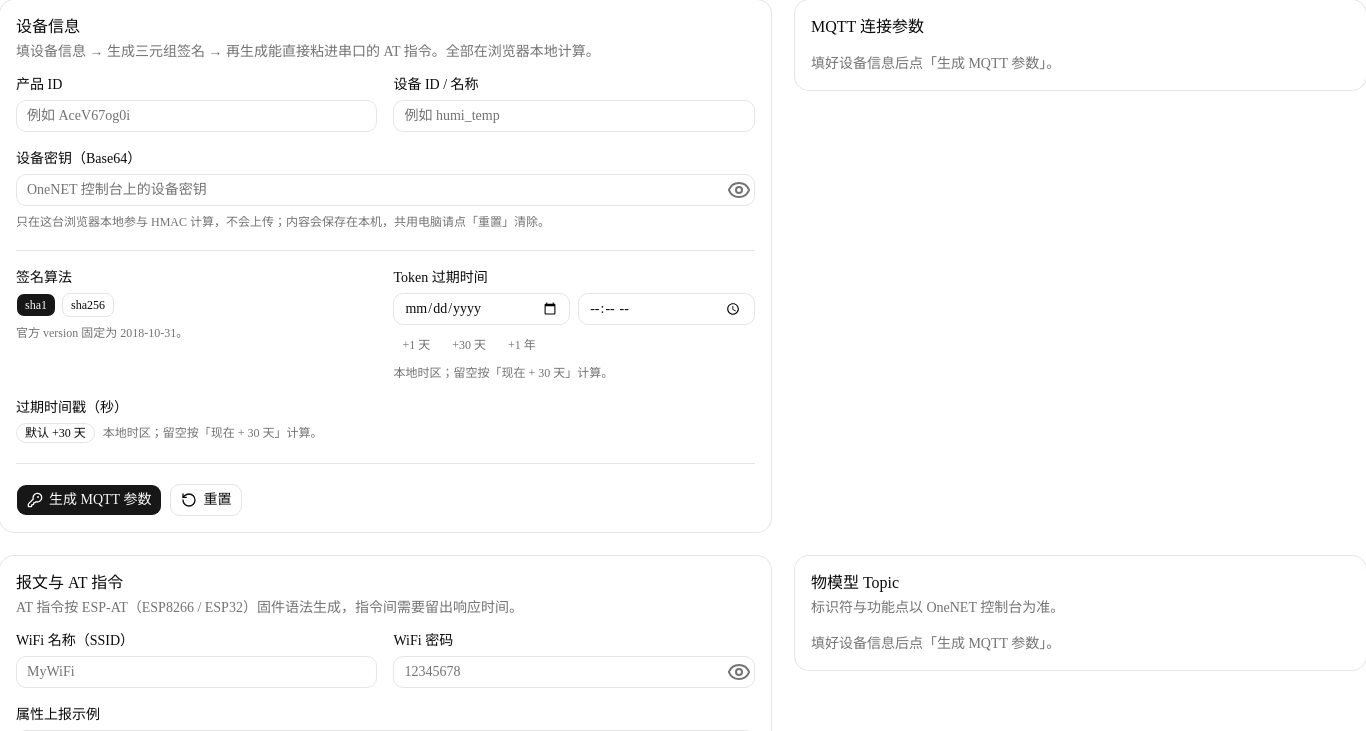
Test: oneNet · 必填校验 › 缺设备 ID
The image size is (1366, 731).
Type "AceV67og0i" into the field with id "onenet-product" at [197, 116], box [16,100,378,132]
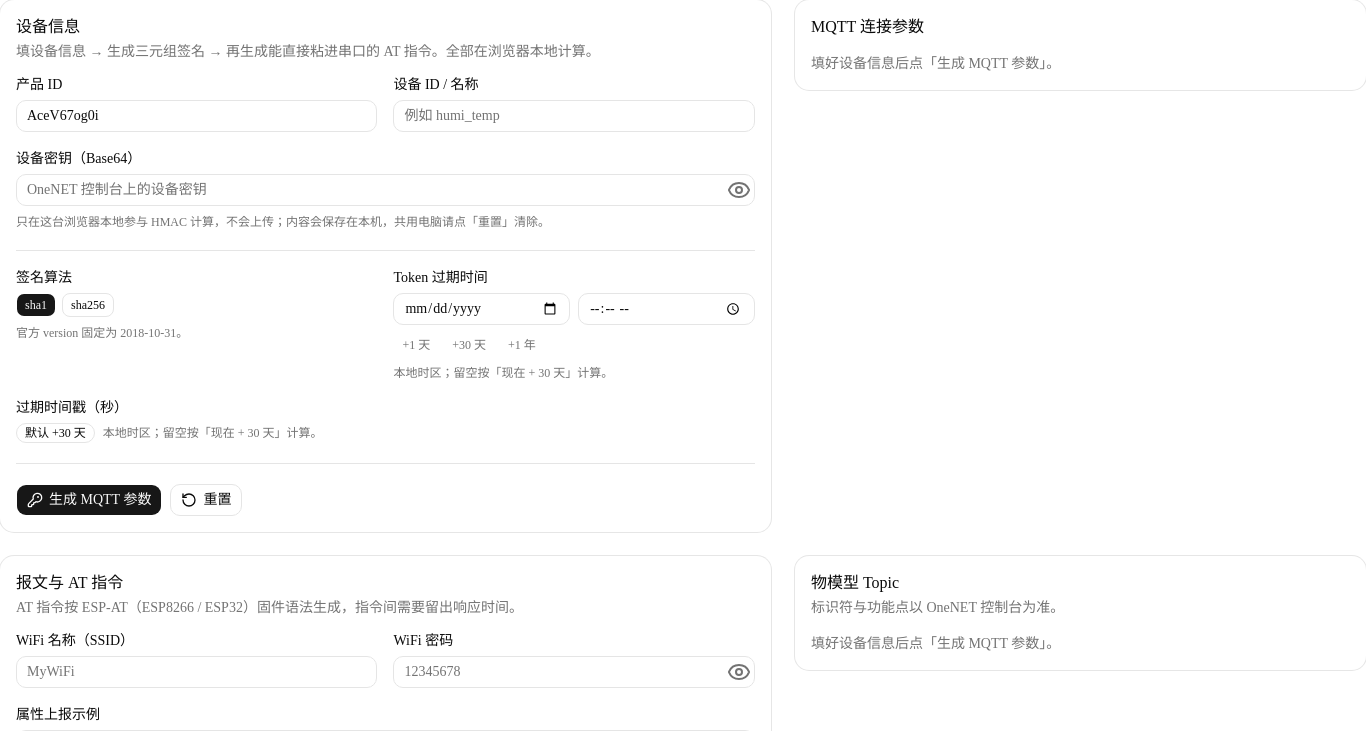
Click the button "生成 MQTT 参数" at [89, 500], box [16,484,162,516]
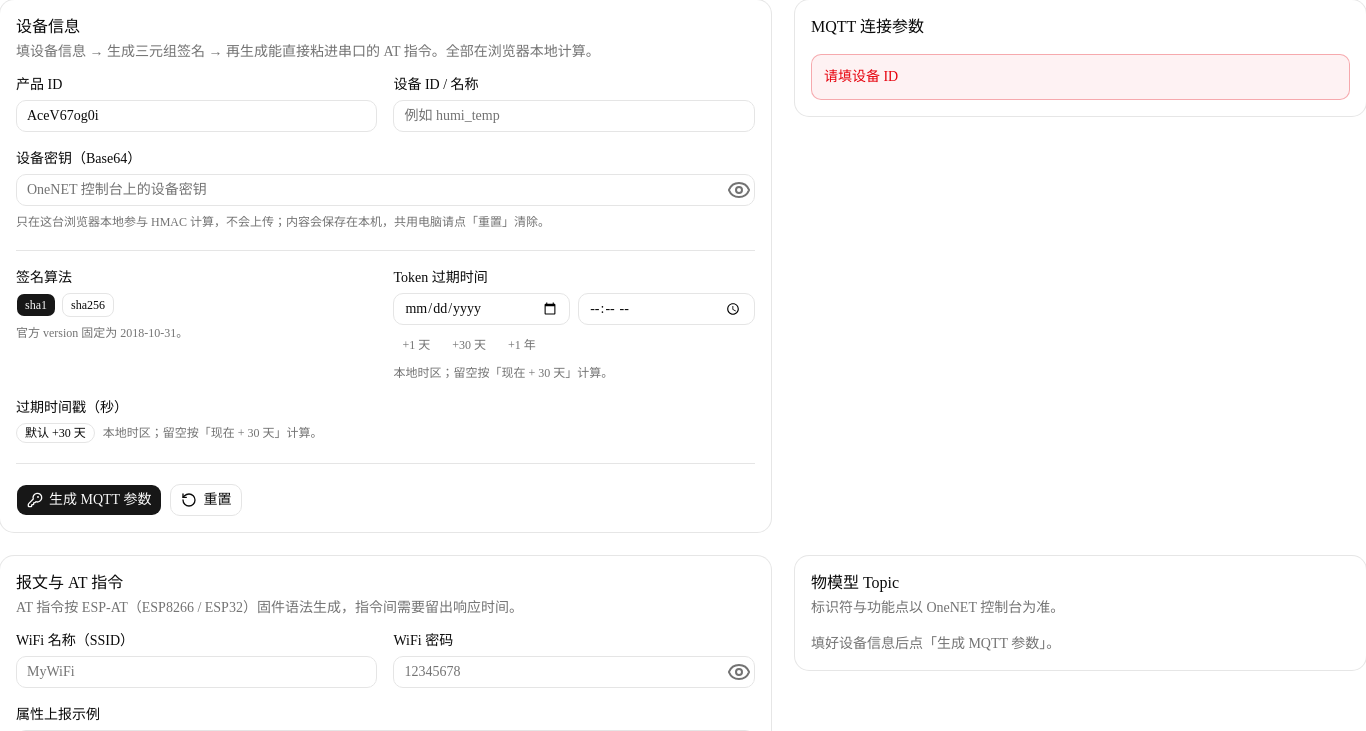
Check: the text "请填设备 ID" is shown, box [811,54,1350,100]
